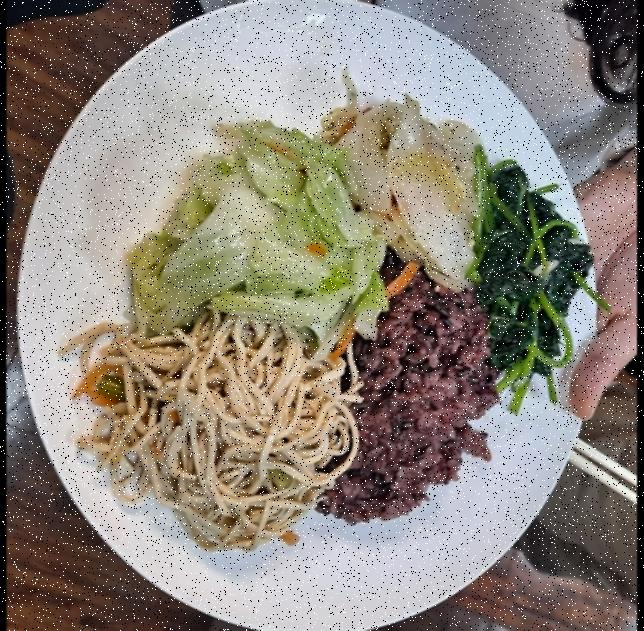plate: (16, 0, 604, 631)
purple rice: (317, 287, 490, 524)
side dish: (81, 331, 354, 554), (130, 121, 388, 340), (328, 102, 488, 290), (479, 160, 598, 386)
